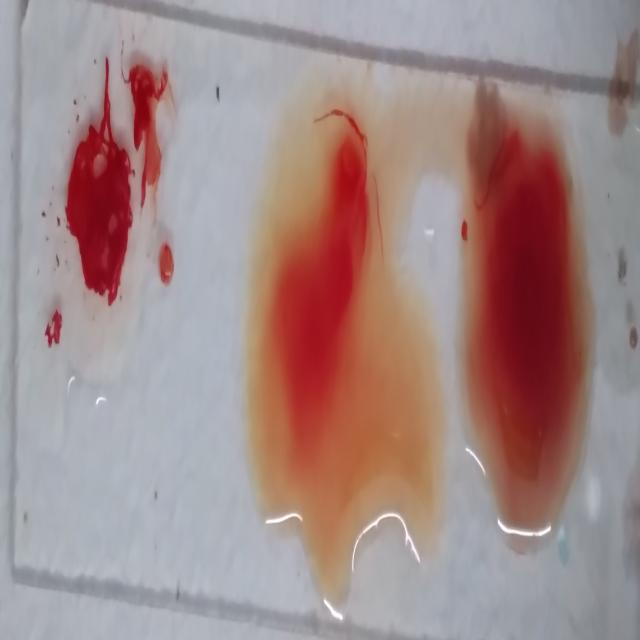D: (39, 35, 172, 398)
